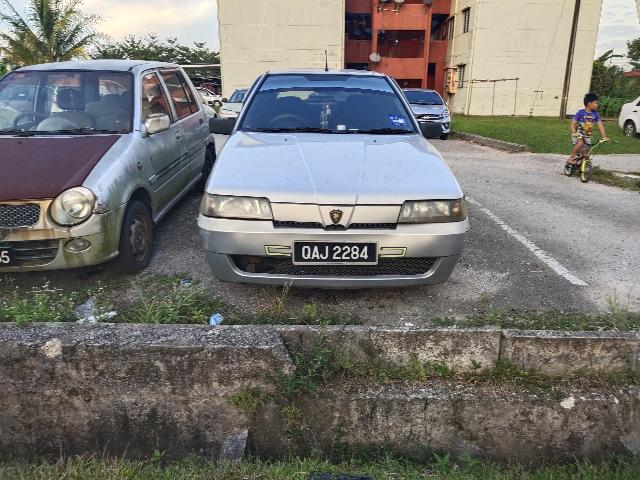License_Plate: (293, 243, 379, 267)
car: (197, 65, 466, 289)
